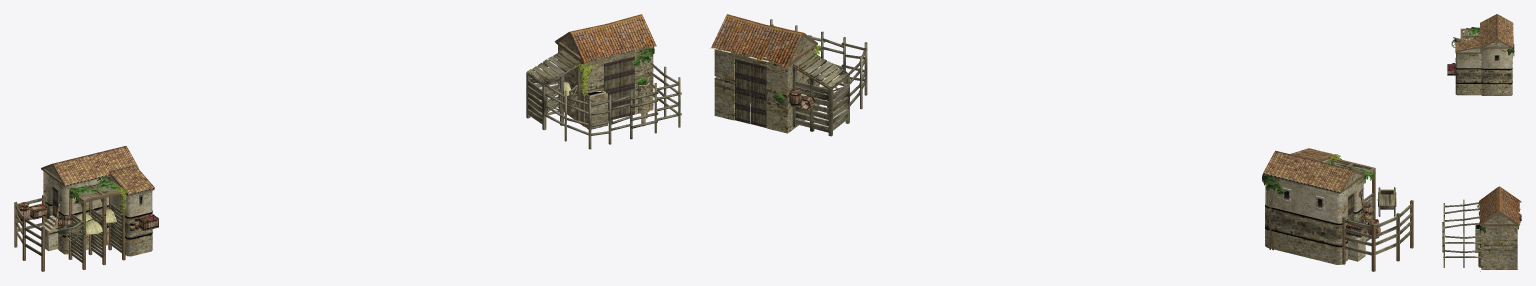
File: campo.glb
The picture shows the model from 3 angles, left to right: view 1: azimuth 30°, elevation 25°; view 2: azimuth 150°, elevation 25°; view 3: azimuth 270°, elevation 25°; orthographic projection. The views are drawn at different scales.
Parts seen in each view (by area): view 1: corral, farm; view 2: corral, farm; view 3: farm, corral.
Boxes of the visible parts, left/top/right/bottom form: corral: left=526, top=14, right=681, bottom=149; farm: left=14, top=146, right=158, bottom=271; corral: left=710, top=14, right=867, bottom=136; farm: left=1262, top=148, right=1413, bottom=271; farm: left=1447, top=14, right=1514, bottom=95; corral: left=1442, top=186, right=1521, bottom=271.
Size of the model in its own units: 2.39 by 0.3376 by 0.3779.
Materials: 10 (10 with a texture image).
